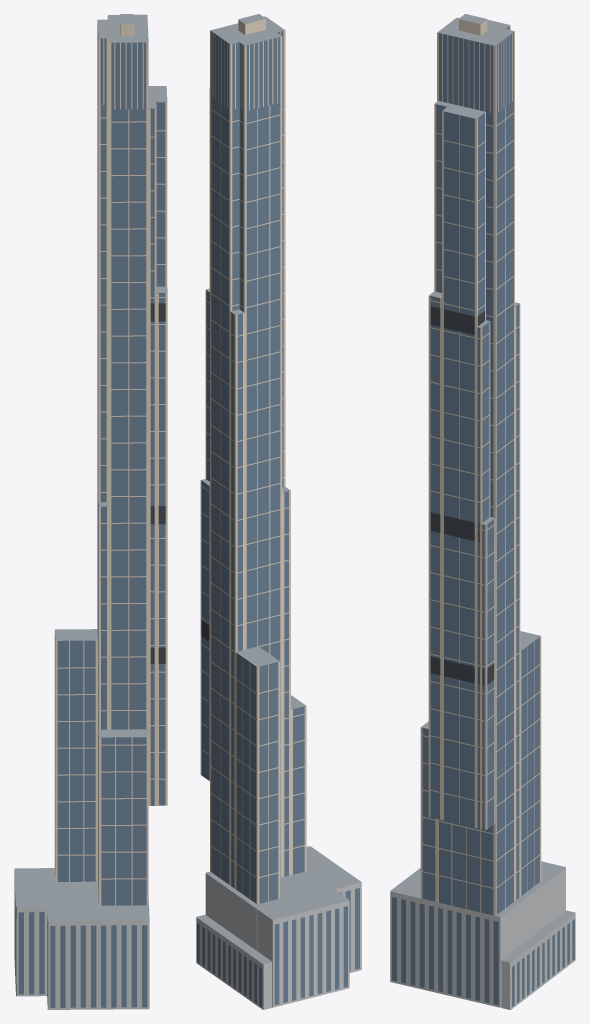
The picture shows the model from 3 angles, left to right: view 1: azimuth 30°, elevation 25°; view 2: azimuth 150°, elevation 25°; view 3: azimuth 270°, elevation 25°; orthographic projection. The views are drawn at different scales.
Parts seen in each view (by area): view 1: central-park-tower; view 2: central-park-tower; view 3: central-park-tower.
Part boxes in pixels (box(x1,y1,x2,y2)): central-park-tower: box(14, 14, 167, 1009); central-park-tower: box(196, 14, 361, 1009); central-park-tower: box(390, 14, 575, 1009).
Size of the model in its own units: 77.81 by 472 by 81.53.
